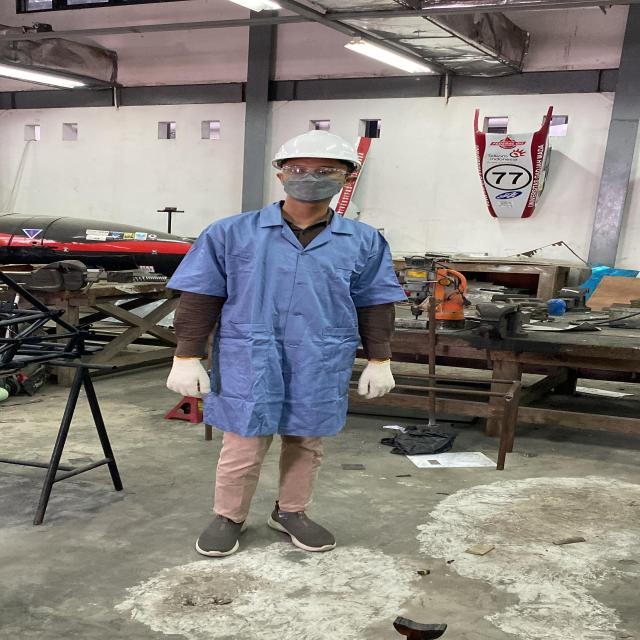face_mask: (274, 161, 351, 204)
glasses: (277, 162, 354, 180)
hand_glove: (159, 351, 218, 404), (347, 352, 398, 401)
head_helmet: (270, 128, 360, 163)
person: (153, 124, 414, 561)
shoes: (186, 505, 259, 561), (259, 500, 340, 550)
